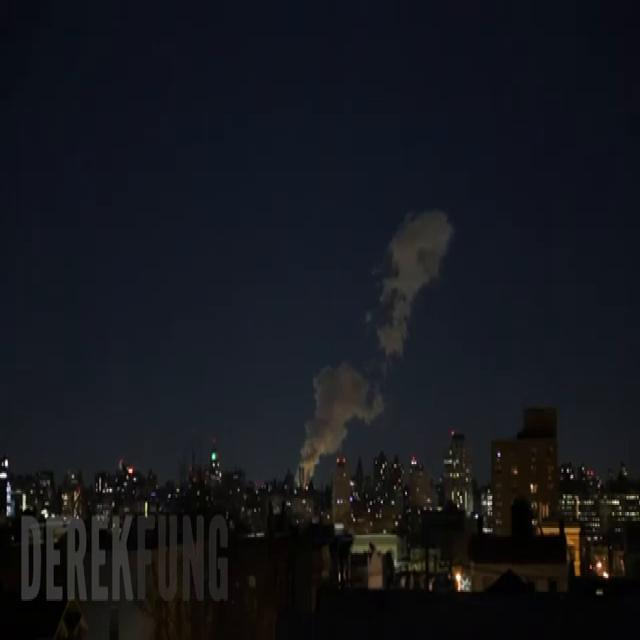smoke: (298, 210, 453, 484)
